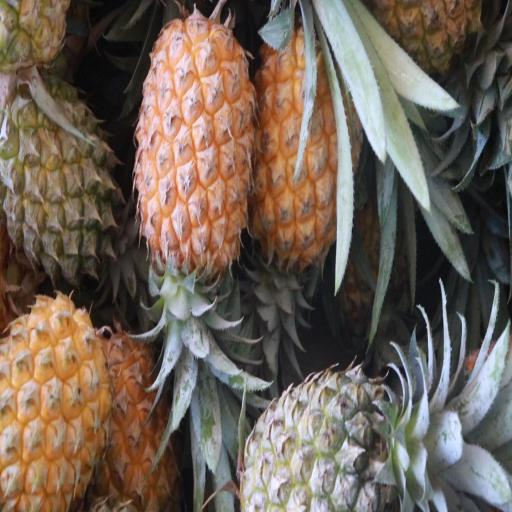------------------------------: (0, 72, 118, 278)
Pineapple - v8 v1: (136, 17, 256, 271), (252, 26, 356, 260), (0, 296, 109, 511)
